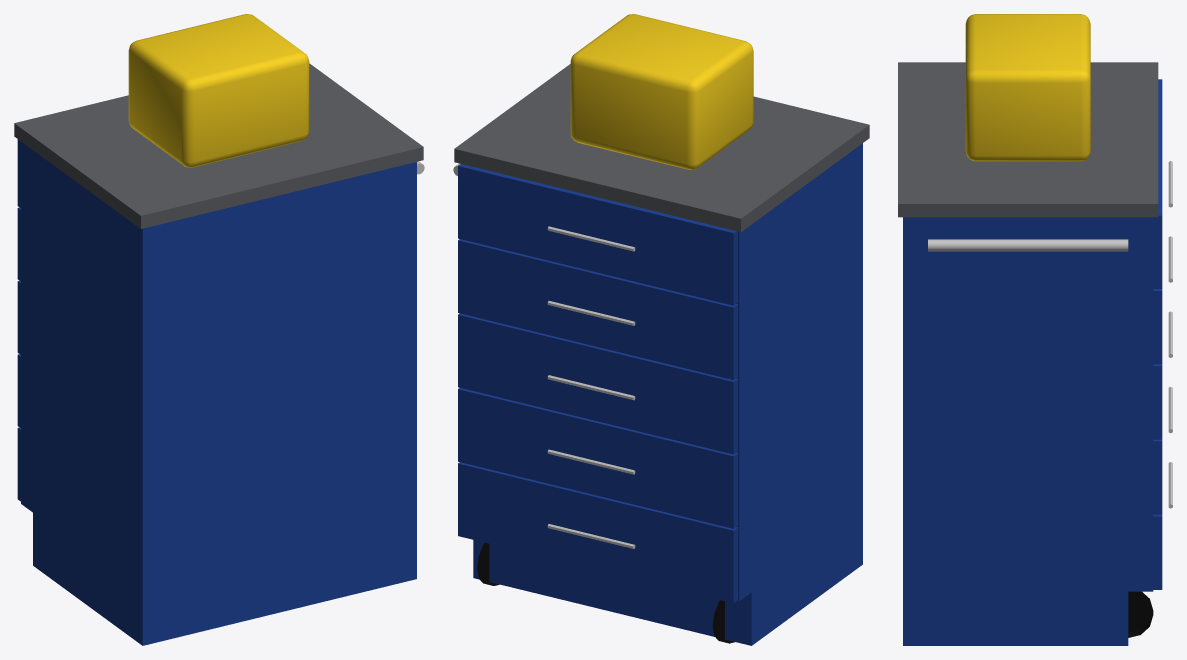
File: hospital.ward.dressing_trolley.glb
3 views of the same model, side by side, from view 1: azimuth 30°, elevation 25°; view 2: azimuth 150°, elevation 25°; view 3: azimuth 270°, elevation 25° (orthographic). The views are drawn at different scales.
Visible parts, largest first — view 1: main__plastic_blue, main__plastic_grey, main__plastic_yellow; view 2: main__plastic_blue, main__plastic_grey, main__plastic_yellow, main__steel_stainless, main__rubber; view 3: main__plastic_blue, main__plastic_grey, main__plastic_yellow, main__steel_stainless, main__rubber.
Part boxes in pixels (left/top/right/bottom): main__plastic_blue: left=17, top=139, right=416, bottom=645; main__plastic_grey: left=14, top=63, right=423, bottom=228; main__plastic_yellow: left=128, top=14, right=309, bottom=167; main__plastic_blue: left=458, top=143, right=862, bottom=645; main__plastic_grey: left=454, top=64, right=869, bottom=231; main__plastic_yellow: left=570, top=14, right=753, bottom=169; main__steel_stainless: left=453, top=163, right=635, bottom=548; main__rubber: left=477, top=542, right=734, bottom=643; main__plastic_blue: left=903, top=79, right=1162, bottom=645; main__plastic_grey: left=898, top=62, right=1158, bottom=217; main__plastic_yellow: left=965, top=14, right=1090, bottom=161; main__steel_stainless: left=928, top=161, right=1172, bottom=508; main__rubber: left=1128, top=591, right=1153, bottom=637.
Bounding box in the file's own units: 0.707 × 1.18 × 0.5493.
